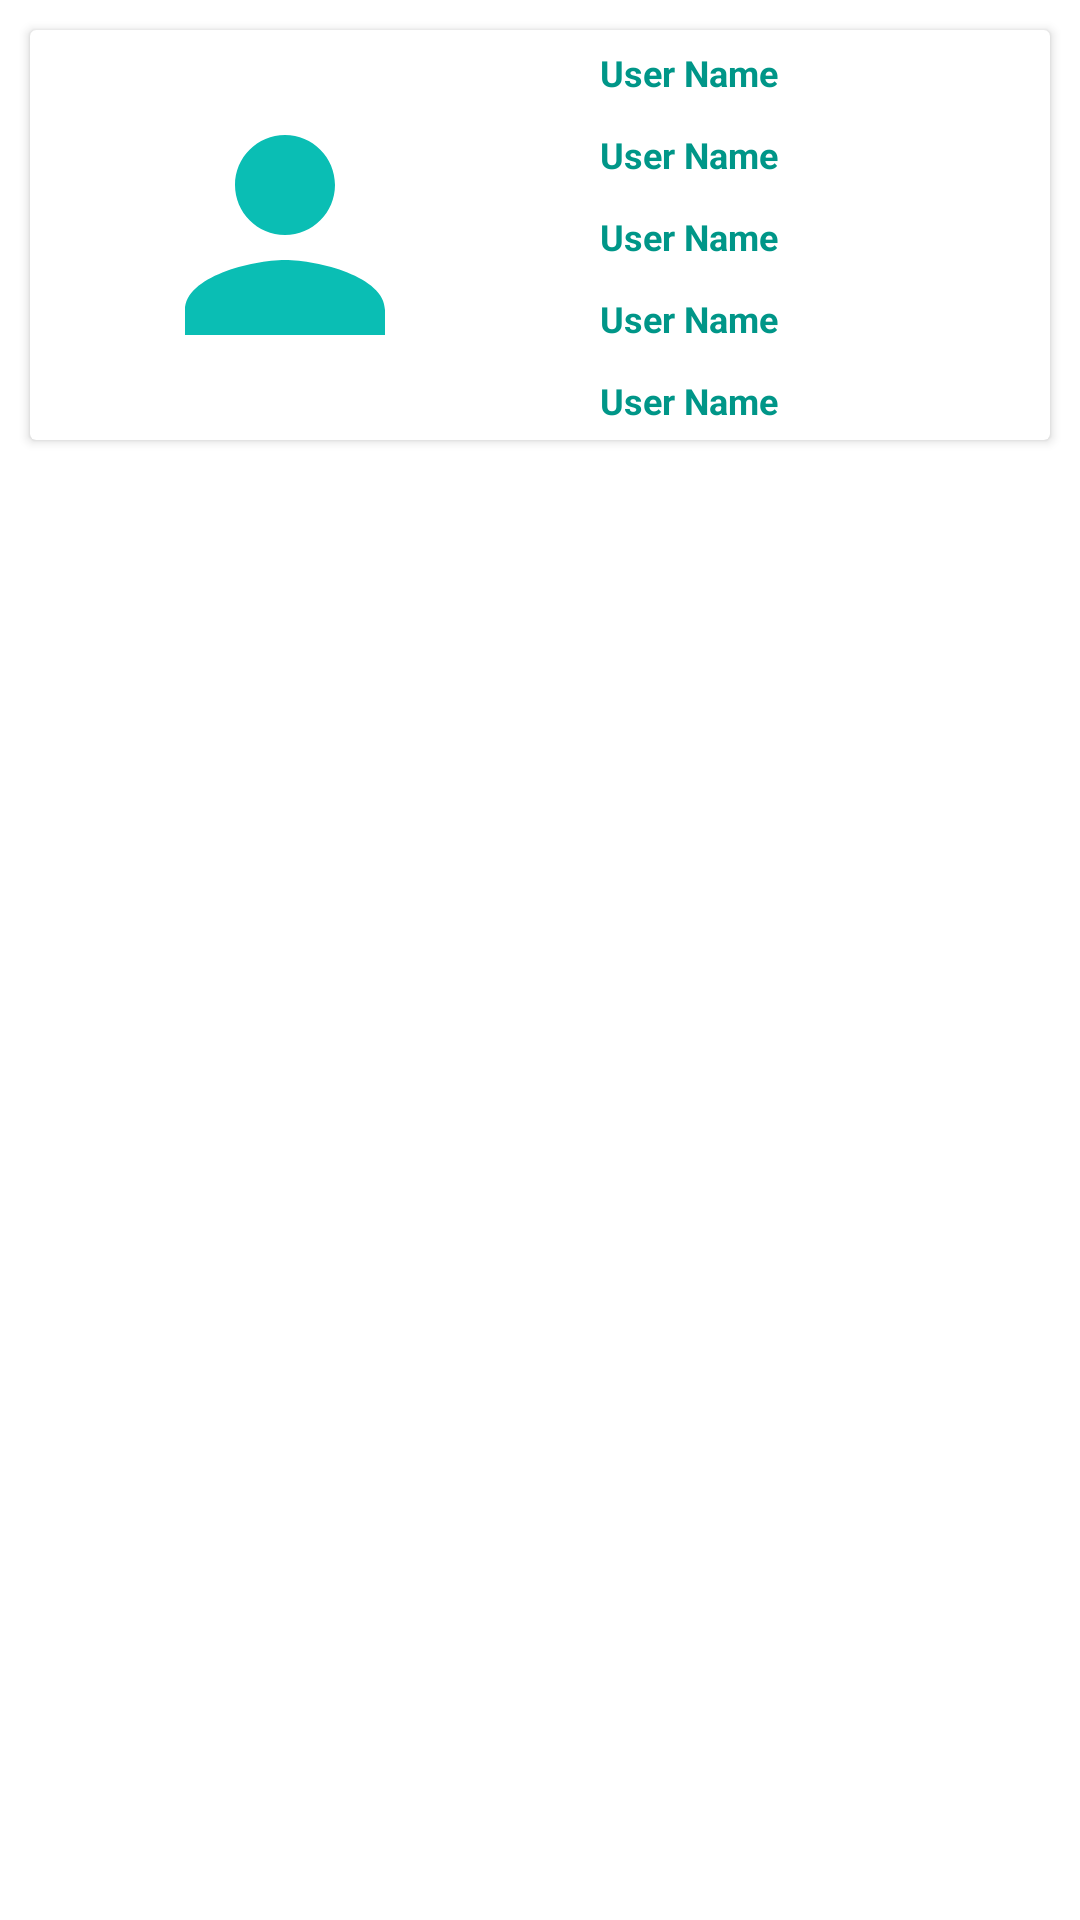

Point at icon controls on the screen. Image size 1080w x 1920h, points as point (x, y).
person: point (285, 235)
